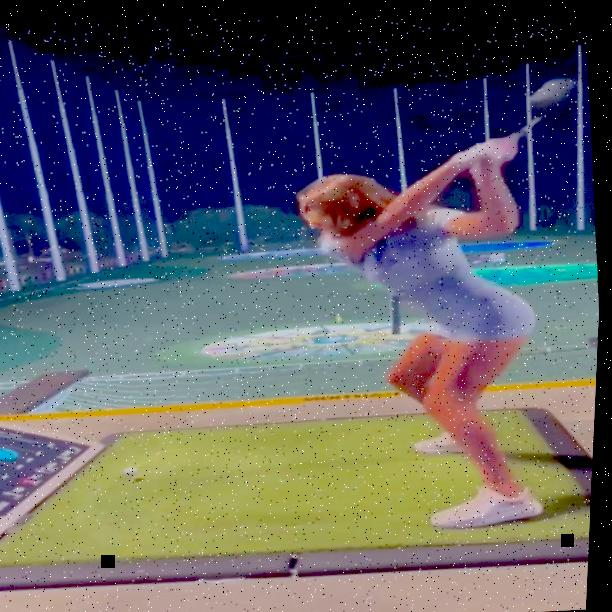ClubHead: (525, 73, 574, 103)
GolfBall: (125, 464, 144, 475)
